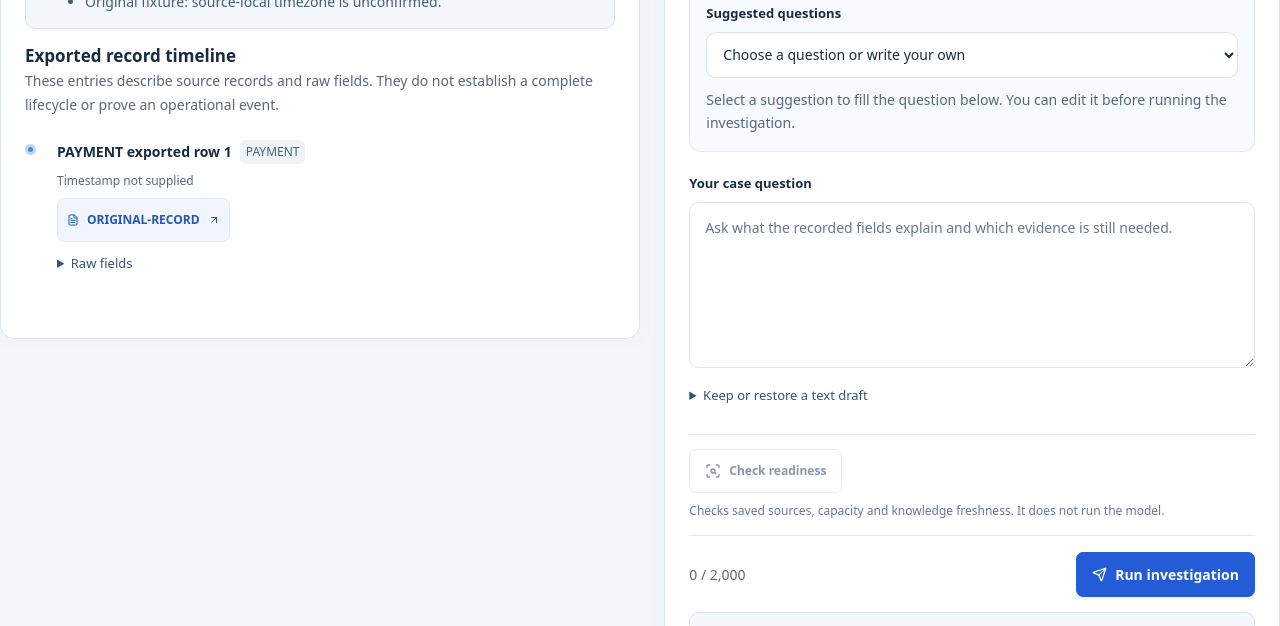
it: case investigation workbench › treats a POST 422 as a rejected request or an unconfirmed submission
The image size is (1280, 626).
(page scrolled)
Replace the text in the text box labelled "Your case question" with "What does the original fixture establish?" at (972, 285), box [689,202,1255,368]
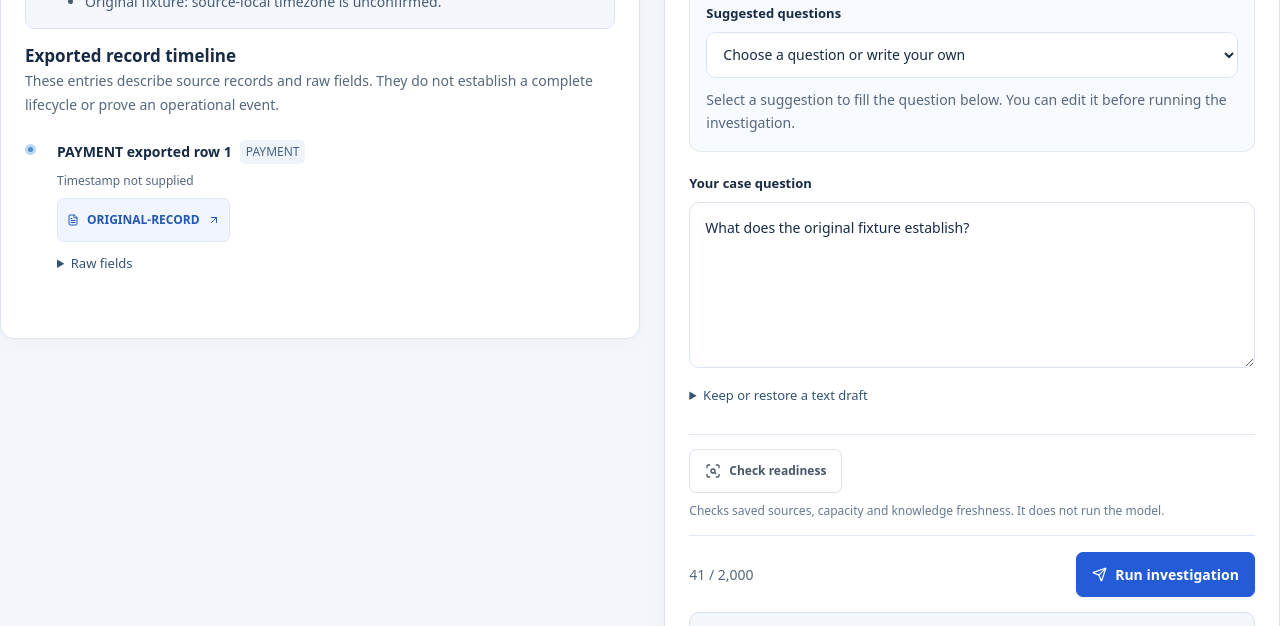
Click the button "Run investigation" at (1166, 575), box [1076,552,1255,597]
Wait 5000 ms
(page scrolled)
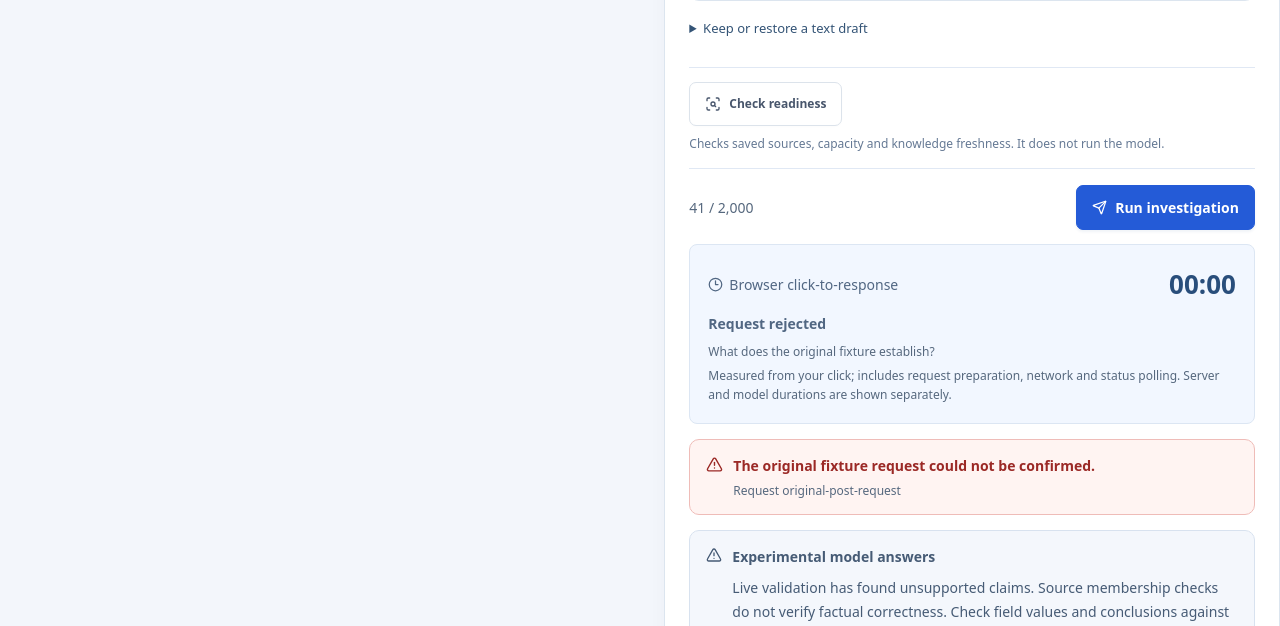
expect the text "Request rejected" is shown: met, box [708,314,826,333]
expect the text "00:00" is shown: met, box [1169,263,1236,306]
